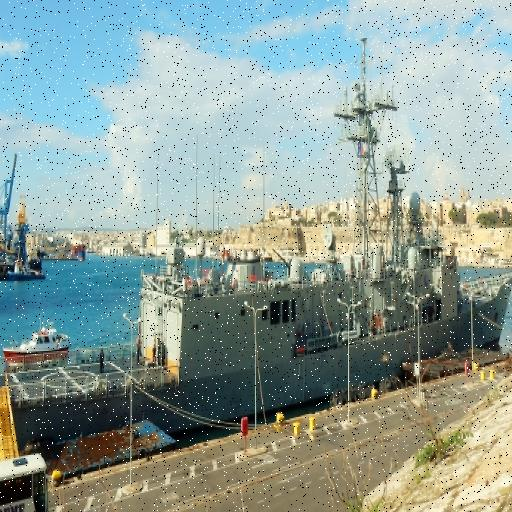Fragata: (1, 29, 512, 512)
